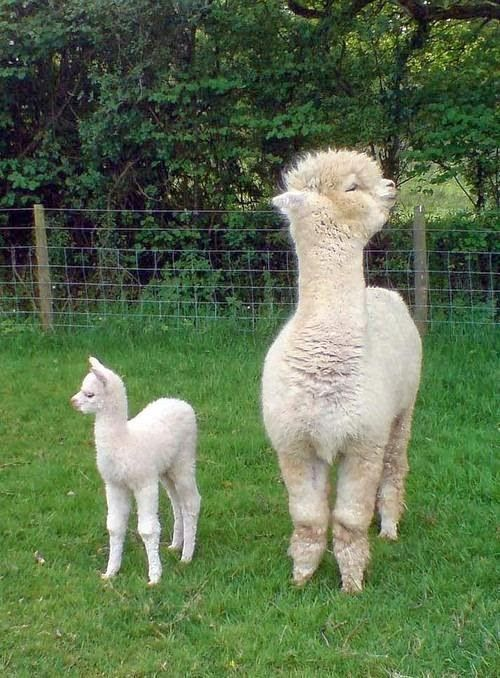alpaca: (261, 150, 424, 593), (71, 357, 203, 585)
